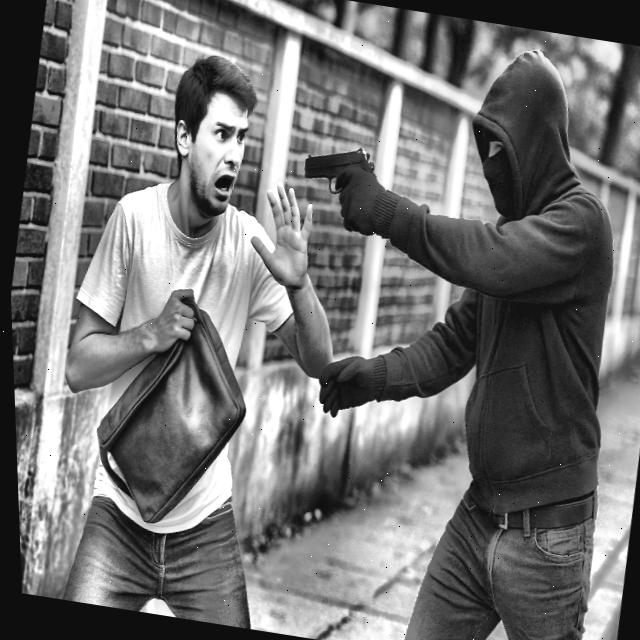pistol: (297, 140, 397, 242)
robbery: (11, 0, 640, 640)
